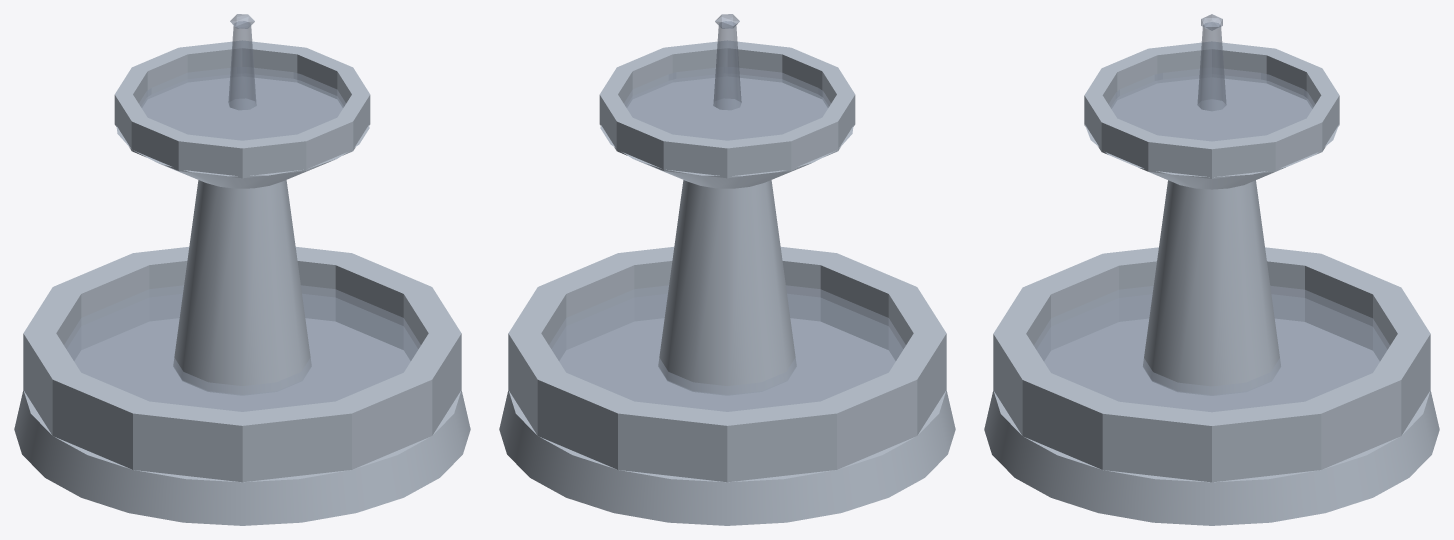
The model's file is 庭院喷泉-lite.glb.
3 views of the same model, side by side, from view 1: azimuth 30°, elevation 25°; view 2: azimuth 150°, elevation 25°; view 3: azimuth 270°, elevation 25° (orthographic).
Parts seen in each view (by area): view 1: garden-fountain; view 2: garden-fountain; view 3: garden-fountain.
Part boxes in pixels (bbox=[...]): garden-fountain: bbox=[14, 14, 470, 525]; garden-fountain: bbox=[499, 14, 955, 525]; garden-fountain: bbox=[984, 14, 1439, 525].
Size of the model in its own units: 1.25 by 1.25 by 1.25.
